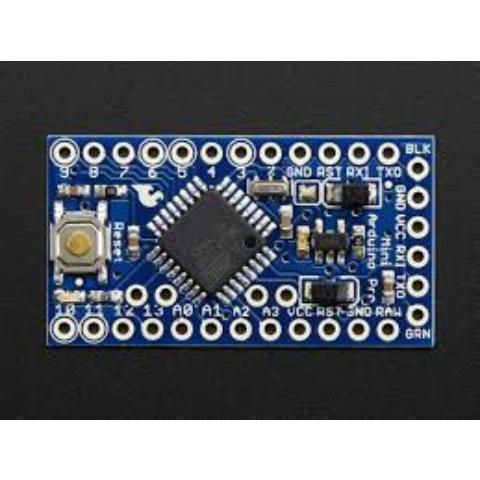Arduino-Pro-Mini: (32, 118, 444, 366)
